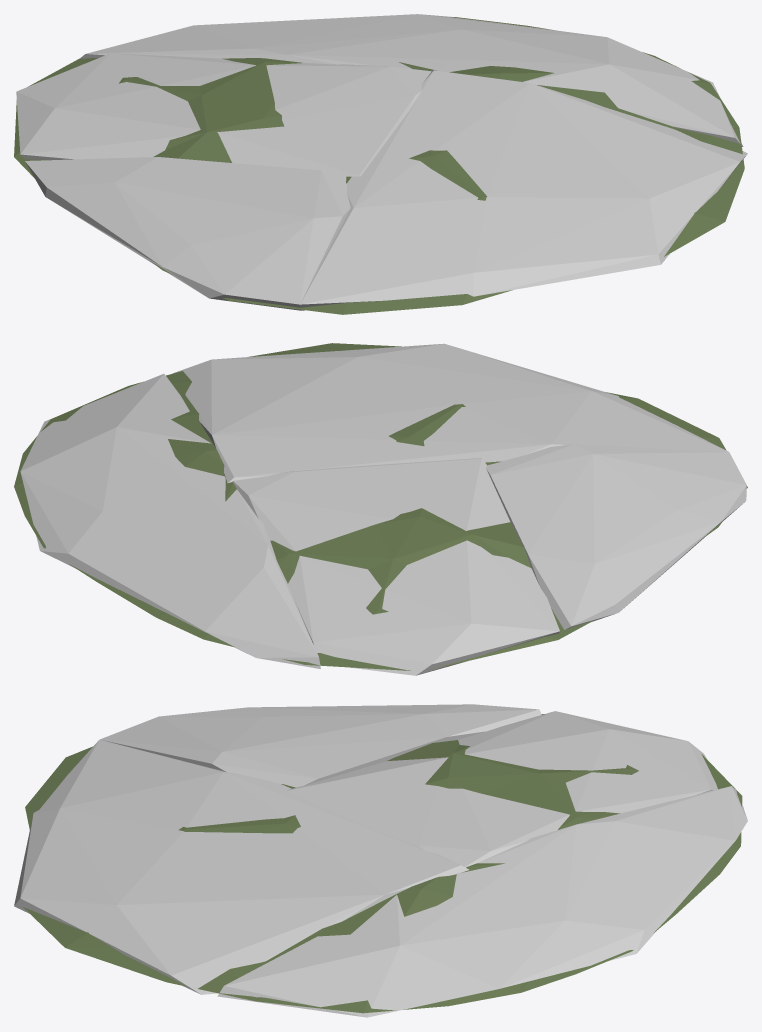
File: SM_Env_Ground_Grass_02.fbx
3 views of the same model, one above another, from view 1: azimuth 30°, elevation 25°; view 2: azimuth 150°, elevation 25°; view 3: azimuth 270°, elevation 25° (orthographic). The views are drawn at different scales.
Parts seen in each view (by area): view 1: SM_Env_Ground_Grass_02_ConvexHulls, SM_Env_Ground_Grass_02; view 2: SM_Env_Ground_Grass_02_ConvexHulls, SM_Env_Ground_Grass_02; view 3: SM_Env_Ground_Grass_02_ConvexHulls, SM_Env_Ground_Grass_02.
Part boxes in pixels (x1=…): SM_Env_Ground_Grass_02_ConvexHulls: x1=16, y1=14, x2=747, y2=310; SM_Env_Ground_Grass_02: x1=14, y1=17, x2=744, y2=314; SM_Env_Ground_Grass_02_ConvexHulls: x1=20, y1=343, x2=746, y2=675; SM_Env_Ground_Grass_02: x1=14, y1=343, x2=747, y2=670; SM_Env_Ground_Grass_02_ConvexHulls: x1=14, y1=704, x2=747, y2=1017; SM_Env_Ground_Grass_02: x1=23, y1=714, x2=742, y2=1013.
Bounding box in the file's own units: 579 × 584 × 32.93.
2 materials, 1 textured.
